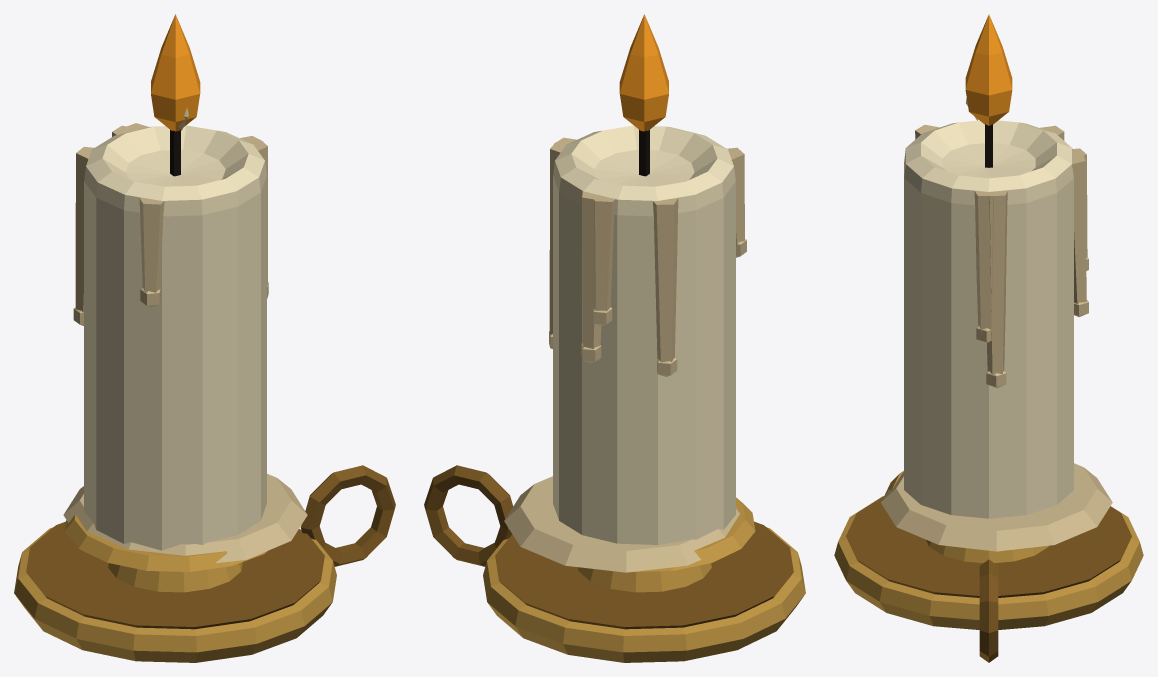
The model's file is candle.obj.
The picture shows the model from 3 angles, left to right: view 1: azimuth 30°, elevation 25°; view 2: azimuth 150°, elevation 25°; view 3: azimuth 270°, elevation 25°; orthographic projection. The views are drawn at different scales.
Parts seen in each view (by area): view 1: lathe.002, lathe, lathe.001, lathe.017, torus, lathe.015, lathe.007, lathe.005; view 2: lathe.002, lathe, lathe.001, lathe.017, torus, lathe.015, lathe.005, lathe.011, lathe.003, lathe.007, lathe.009; view 3: lathe.002, lathe.001, lathe, lathe.017, lathe.015, lathe.009, lathe.013, torus, lathe.003.
Boxes of the visible parts, bbox=[...] form: lathe.002: bbox=[84, 125, 266, 550]; lathe: bbox=[14, 514, 336, 662]; lathe.001: bbox=[26, 521, 324, 629]; lathe.017: bbox=[63, 473, 307, 563]; torus: bbox=[300, 465, 395, 566]; lathe.015: bbox=[151, 14, 200, 131]; lathe.007: bbox=[139, 197, 164, 292]; lathe.005: bbox=[75, 146, 93, 312]; lathe.002: bbox=[553, 125, 735, 544]; lathe: bbox=[483, 497, 805, 662]; lathe.001: bbox=[495, 521, 793, 629]; lathe.017: bbox=[504, 476, 740, 572]; torus: bbox=[424, 465, 513, 566]; lathe.015: bbox=[619, 14, 668, 131]; lathe.005: bbox=[652, 197, 678, 362]; lathe.011: bbox=[592, 195, 615, 311]; lathe.003: bbox=[582, 191, 601, 348]; lathe.007: bbox=[727, 147, 744, 245]; lathe.009: bbox=[549, 142, 565, 334]; lathe.002: bbox=[904, 120, 1073, 518]; lathe.001: bbox=[846, 496, 1131, 597]; lathe: bbox=[834, 471, 1143, 629]; lathe.017: bbox=[881, 463, 1112, 551]; lathe.015: bbox=[965, 14, 1012, 125]; lathe.009: bbox=[987, 190, 1007, 378]; lathe.013: bbox=[974, 190, 997, 334]; torus: bbox=[979, 559, 998, 662]; lathe.003: bbox=[1072, 155, 1086, 303].
Size of the model in its own units: 0.205 by 0.3207 by 0.16.
